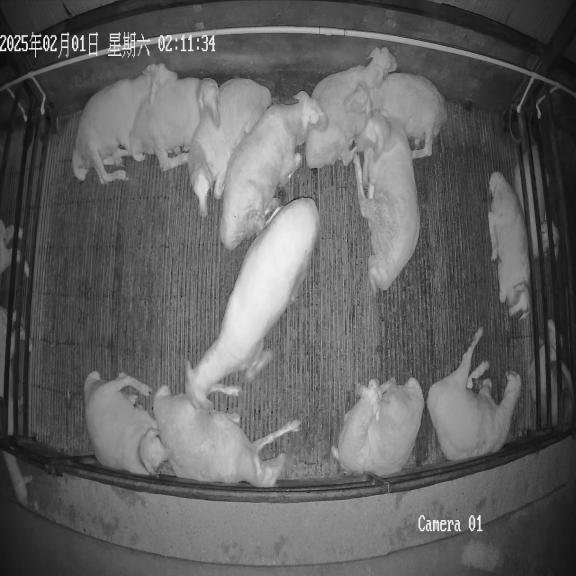lying: (219, 91, 326, 250), (153, 386, 300, 487), (72, 63, 177, 184), (427, 328, 521, 461), (354, 111, 420, 290), (188, 78, 271, 216), (305, 47, 397, 168), (331, 378, 424, 476), (344, 72, 447, 158), (84, 371, 168, 475), (130, 78, 218, 171), (488, 172, 531, 318)
stand: (185, 198, 320, 408)
